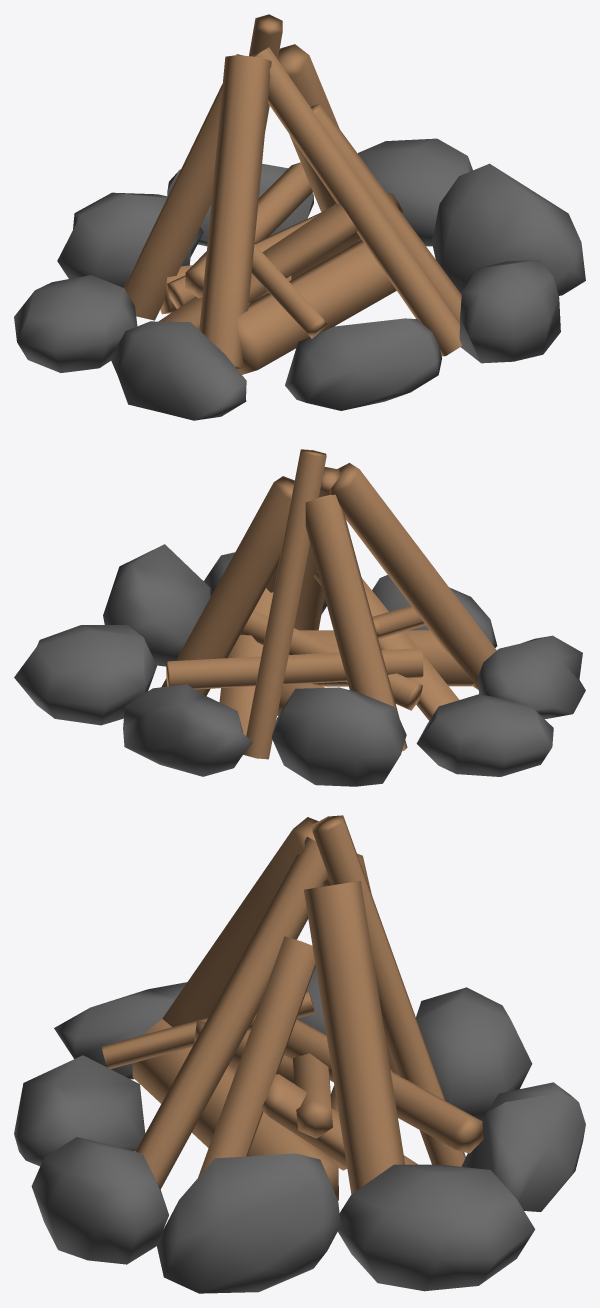
The model's file is fogata.fbx.
3 views of the same model, one above another, from view 1: azimuth 30°, elevation 25°; view 2: azimuth 150°, elevation 25°; view 3: azimuth 270°, elevation 25° (orthographic). The views are drawn at different scales.
Visible parts, largest first — view 1: pPlatonic25; view 2: pPlatonic25; view 3: pPlatonic25.
Boxes of the visible parts, x1,y1,x2,y2 form: pPlatonic25: (14, 14, 585, 420); pPlatonic25: (14, 449, 585, 786); pPlatonic25: (14, 815, 585, 1293).
Size of the model in its own units: 2.28 by 1.32 by 1.89.
